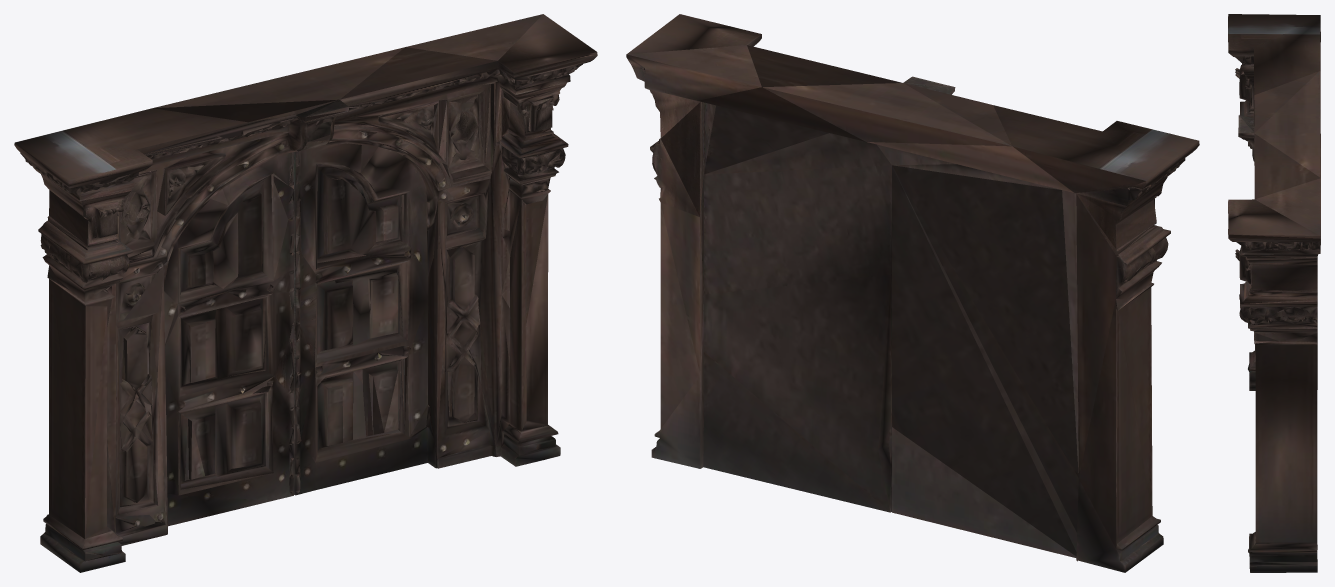
Rendered from haveli_door.glb.
3 renders of one model, left to right at view 1: azimuth 30°, elevation 25°; view 2: azimuth 150°, elevation 25°; view 3: azimuth 270°, elevation 25°, orthographic. The views are drawn at different scales.
Parts seen in each view (by area): view 1: haveli_door; view 2: haveli_door; view 3: haveli_door.
Boxes of the visible parts, x1,y1,x2,y2 form: haveli_door: (14, 14, 597, 572); haveli_door: (626, 14, 1199, 572); haveli_door: (1228, 14, 1320, 572).
Bounding box in the file's own units: 3.4 × 2.5 × 0.6051.
Materials: 1 (1 with a texture image).
